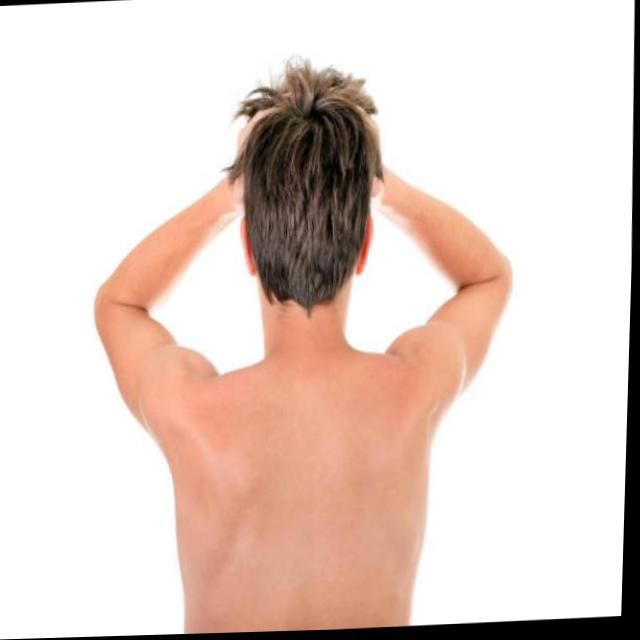no helmet: (235, 70, 381, 338)
